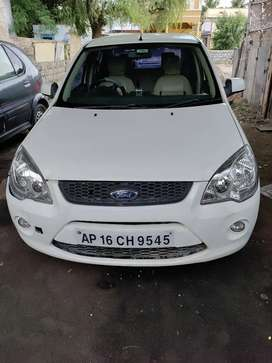AP16CH9545: (74, 229, 172, 248)
